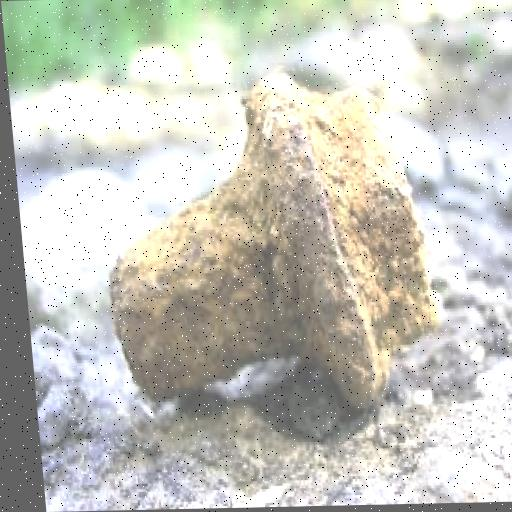corrosion: (91, 63, 443, 410)
